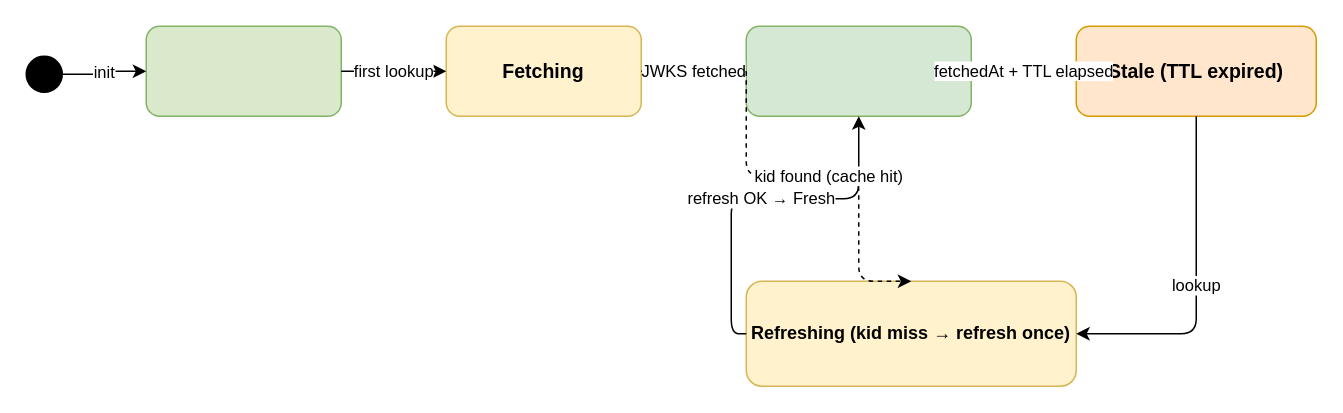
Some shapes in this 1343 by 413 pixel diagram are drawn without their labels. Here are the shapes that lost their labels. From the top down, the box of each, then its label:
(145, 25, 341, 116): Empty
(745, 25, 971, 116): Fresh (TTL 1h)
